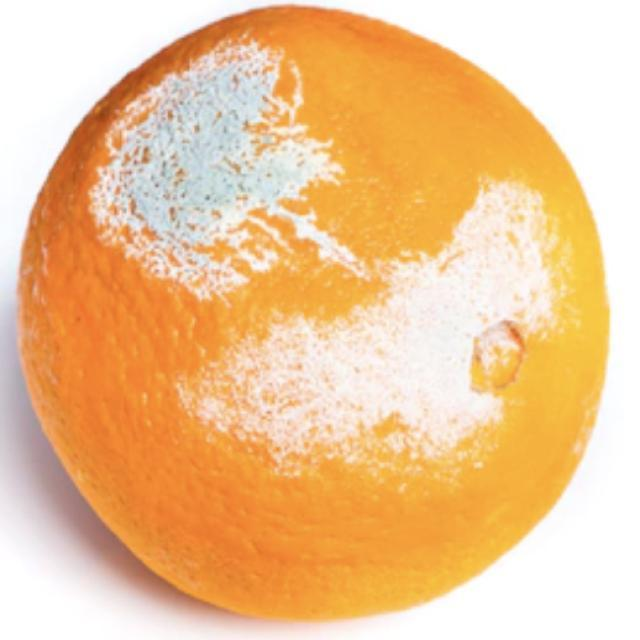sedikit-busuk: (201, 183, 552, 461), (92, 41, 341, 281)
